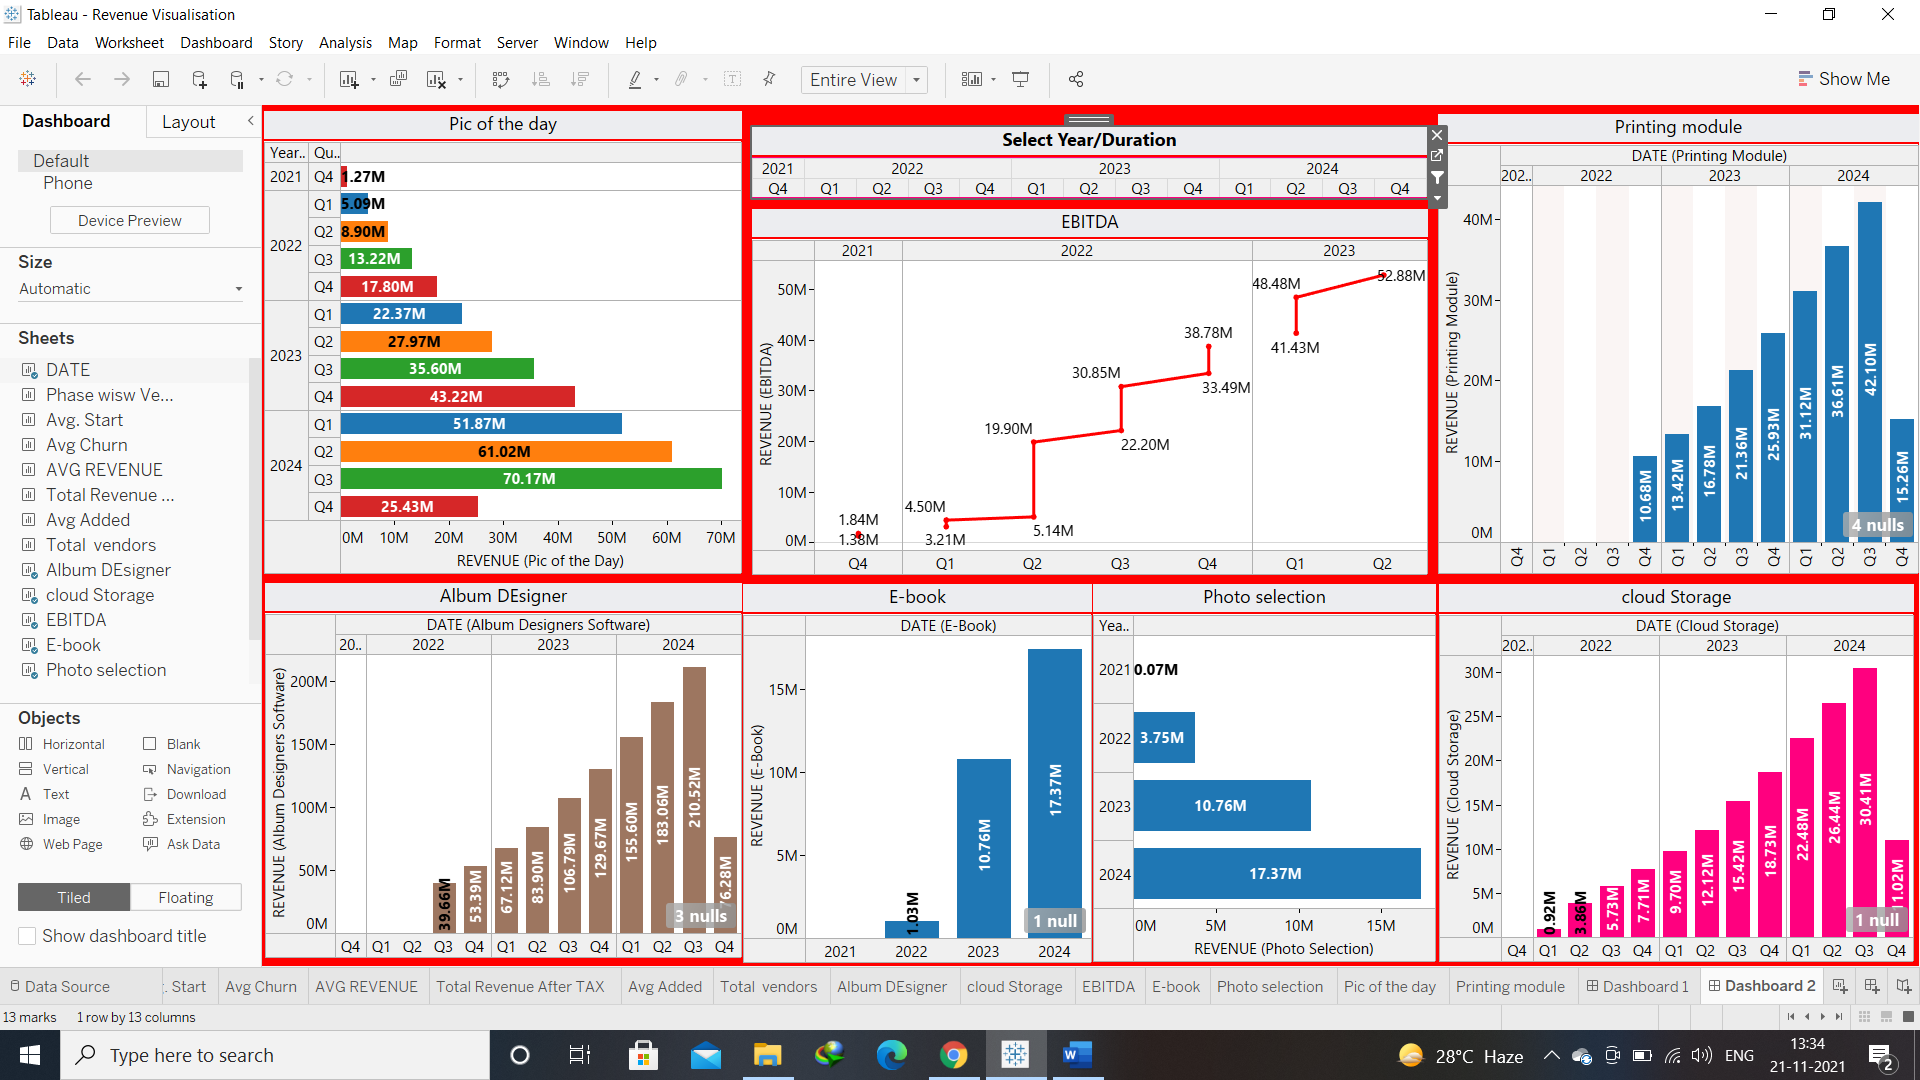

The page's visual inventory and layout, read from the dashboard file:
{"tool":"tableau","page":{"name":"Dashboard 2","canvas":[1000,1000],"units":"permille","ordinal":1},"visuals":[{"type":"worksheet","title":"Pic of the day","mark":"Bar","rows":["DATE (Pic of the Day)","DATE (Pic of the Day)"],"cols":["REVENUE (Pic of the Day)"],"box":[1.2,7,288.5,537.8]},{"type":"worksheet","title":"Printing module","mark":"Bar","rows":["REVENUE (Printing Module)"],"cols":["DATE (Printing Module)","DATE (Printing Module)"],"box":[709.7,10.5,290.3,534.3]},{"type":"worksheet","title":"DATE ","mark":"Automatic","cols":["DATE","DATE"],"box":[295.7,25.6,407.4,82.5]},{"type":"worksheet","title":"EBITDA","mark":"Line","rows":["REVENUE (EBITDA)"],"cols":["DATE (EBITDA)","DATE (EBITDA)"],"box":[295.7,120.8,408,425.1]},{"type":"legend","title":"Printing module","param":"[federated.04ooact1cpnkwy14opwiy08migs0].[sum:REVENUE (Printing Module):qk]","box":[782.5,456.2,171.2,53.8]},{"type":"legend","title":"Pic of the day","param":"[federated.04ooact1cpnkwy14opwiy08migs0].[sum:REVENUE (Pic of the Day):qk]","box":[19.4,465,183.1,53.8]},{"type":"worksheet","title":"Album DEsigner","mark":"Bar","rows":["REVENUE (Album Designers Software)"],"cols":["DATE (Album Designers Software)","DATE (Album Designers Software)"],"box":[1.8,555.2,287.9,435.5]},{"type":"worksheet","title":"E-book","mark":"Bar","rows":["REVENUE (E-Book)"],"cols":["DATE (E-Book)"],"box":[290.3,556.3,210.6,440.2]},{"type":"worksheet","title":"Photo selection","mark":"Bar","rows":["DATE (Photo Selection)"],"cols":["REVENUE (Photo Selection)"],"box":[501.5,556.3,207,439]},{"type":"worksheet","title":"cloud Storage","mark":"Bar","rows":["REVENUE (Cloud Storage)"],"cols":["DATE (Cloud Storage)","DATE (Cloud Storage)"],"box":[710.3,556.3,286.7,439]}]}

Visuals, with their boxes on the dashboard's canvas, which has no fixed pixel size, in thousandths of its width and height (x1, y1, x2, y2). These are canvas units, not pixel positions in the 1920x1080 screenshot, which may show the page scaled, cropped or inside an application window:
"Pic of the day" worksheet (Bar marks): <box>1,7,290,545</box>
"Printing module" worksheet (Bar marks): <box>710,10,1000,545</box>
"DATE " worksheet: <box>296,26,703,108</box>
"EBITDA" worksheet (Line marks): <box>296,121,704,546</box>
"Printing module" legend: <box>782,456,954,510</box>
"Pic of the day" legend: <box>19,465,202,519</box>
"Album DEsigner" worksheet (Bar marks): <box>2,555,290,991</box>
"E-book" worksheet (Bar marks): <box>290,556,501,996</box>
"Photo selection" worksheet (Bar marks): <box>502,556,708,995</box>
"cloud Storage" worksheet (Bar marks): <box>710,556,997,995</box>
